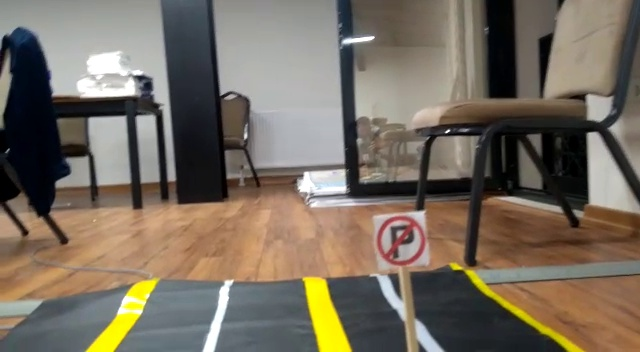park_yapilmaz: (376, 213, 426, 266)
